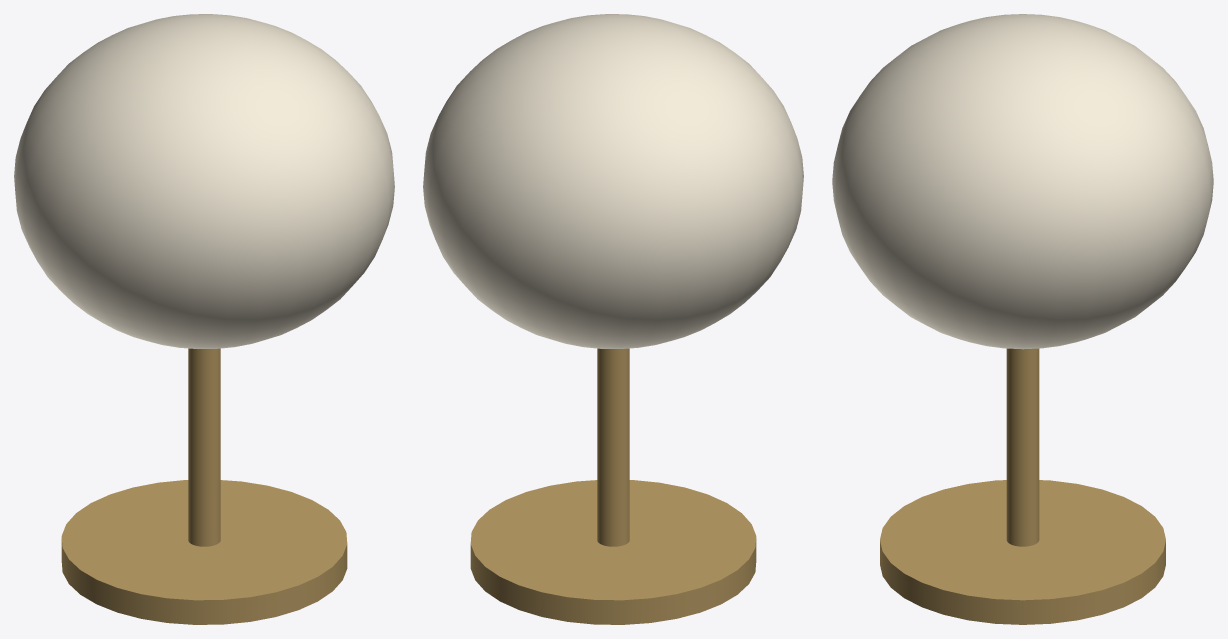
The model's file is officeOpalLamp.glb.
3 renders of one model, left to right at view 1: azimuth 30°, elevation 25°; view 2: azimuth 150°, elevation 25°; view 3: azimuth 270°, elevation 25°, orthographic.
Size of the model in its own units: 0.28 by 0.429 by 0.28.
